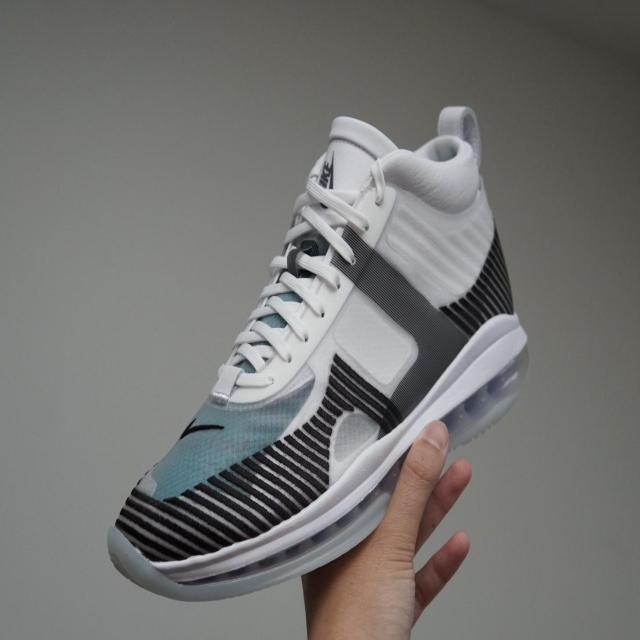shoe: (100, 65, 546, 623)
